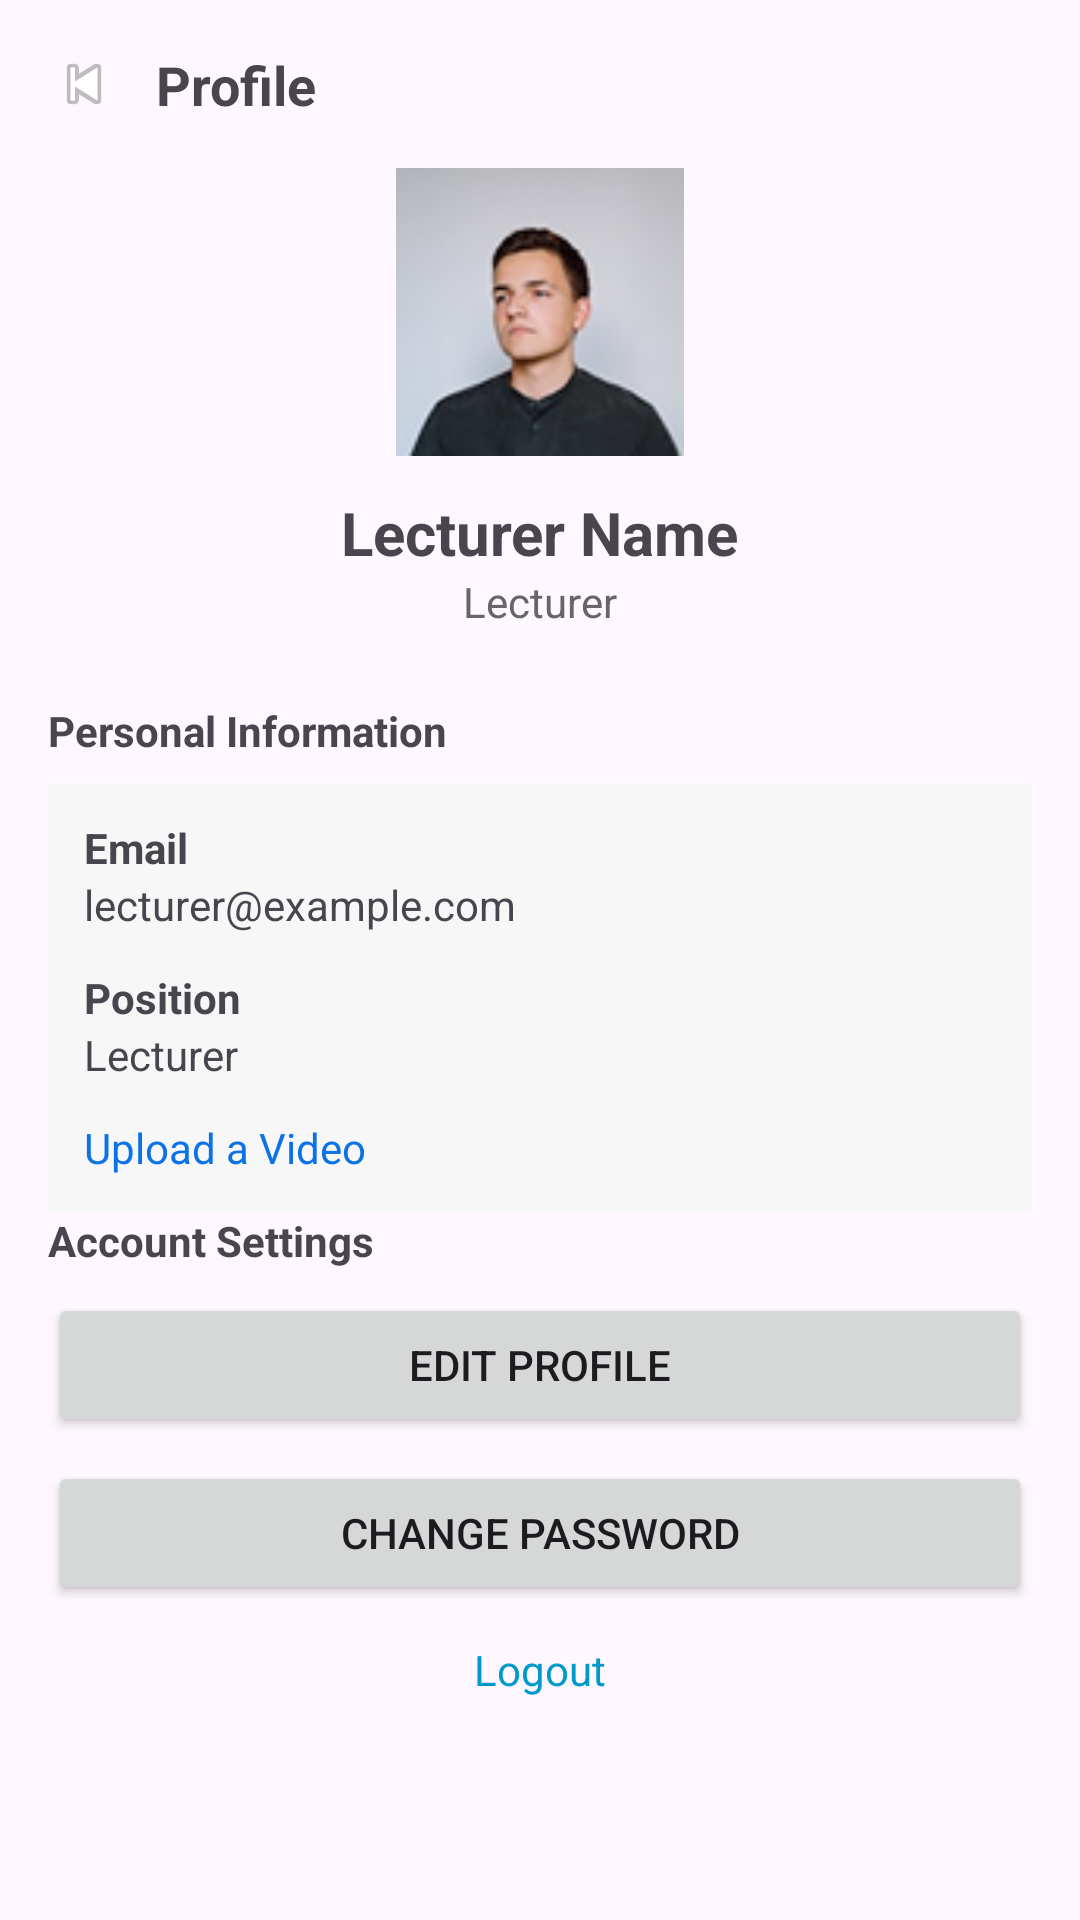

Locate icon controls on the screen. Image size 1080 x 1920, boxes as (x1, y1, x2, y2).
previous: (67, 64, 101, 104)
pro pic: (396, 168, 684, 456)
